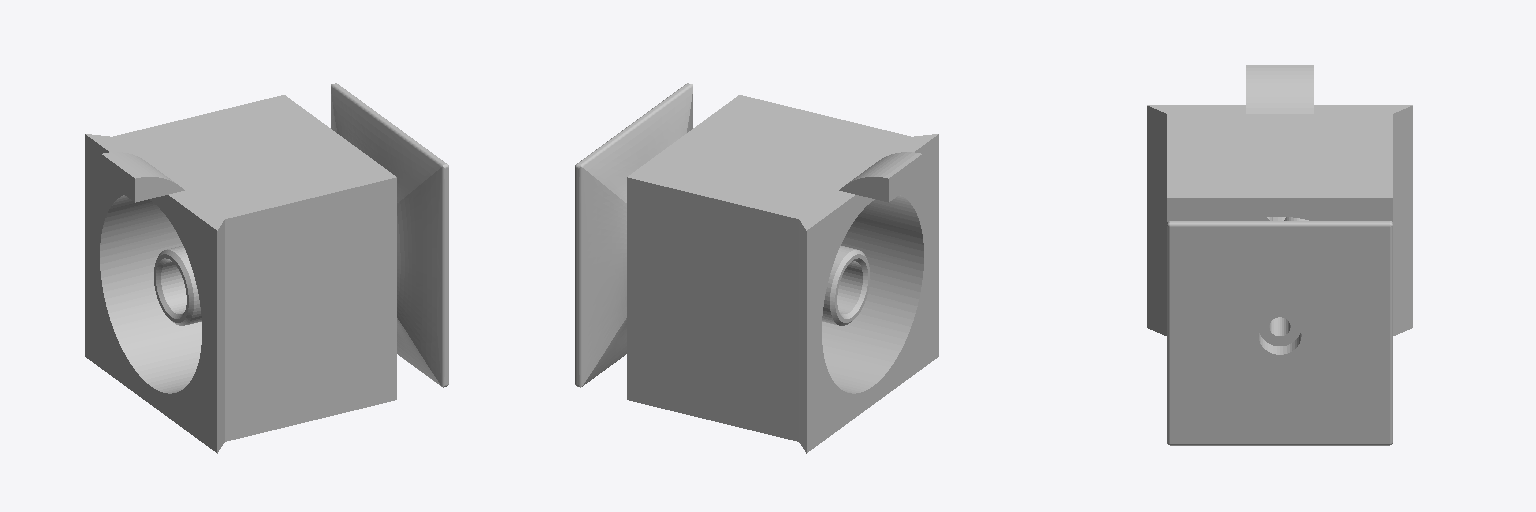
File: coushon_compliant_v3_0.4mm nozzle.obj
3 views of the same model, side by side, from view 1: azimuth 30°, elevation 25°; view 2: azimuth 150°, elevation 25°; view 3: azimuth 270°, elevation 25° (orthographic).
Visible parts, largest first — view 1: Body1, Body2; view 2: Body1, Body2; view 3: Body2, Body1.
Part boxes in pixels (x1,y1,x2,y2): Body1: (85,95,396,453); Body2: (331,83,448,387); Body1: (627,95,938,453); Body2: (575,83,692,387); Body2: (1167,221,1392,445); Body1: (1147,65,1412,335).
Bounding box in the file's own units: 47.9 × 41 × 40.